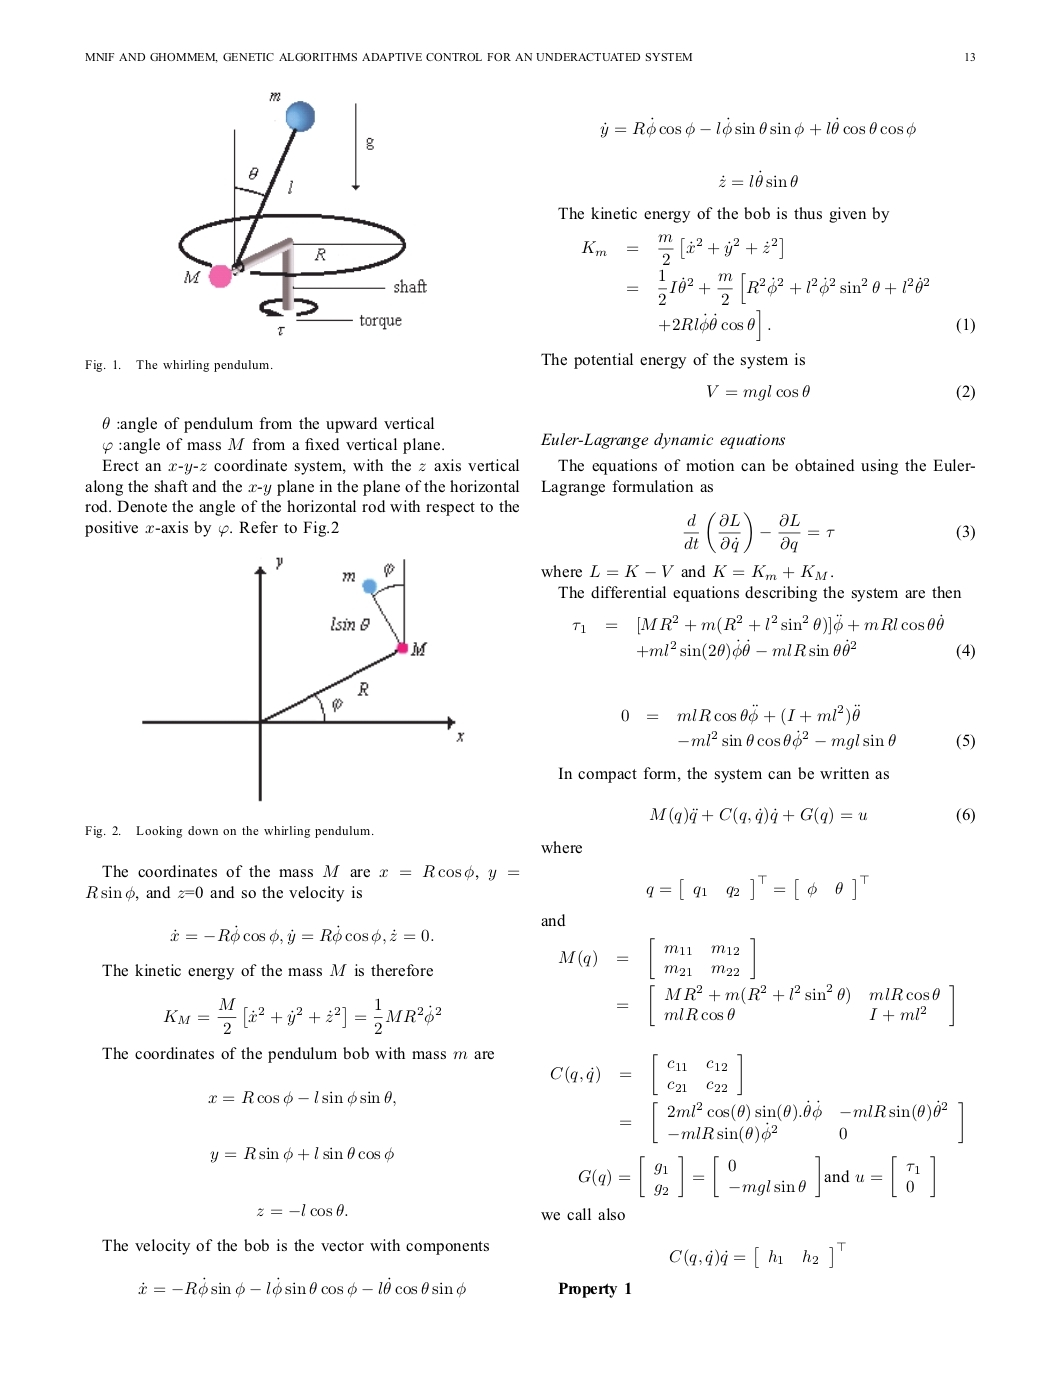figure: (142, 556, 464, 802), (178, 91, 426, 335)
formula: (620, 1099, 962, 1145), (578, 1155, 934, 1198), (617, 982, 953, 1028), (683, 512, 974, 553), (627, 267, 928, 305), (163, 997, 440, 1034), (659, 309, 974, 341), (549, 1052, 741, 1096), (558, 937, 755, 980), (572, 613, 943, 635), (637, 637, 974, 661), (138, 1276, 465, 1298), (581, 232, 782, 265), (600, 117, 915, 137), (678, 729, 974, 750), (649, 806, 974, 825), (646, 874, 868, 900), (171, 924, 434, 945), (621, 703, 859, 726), (707, 384, 974, 401), (669, 1245, 841, 1268), (210, 1145, 393, 1163), (208, 1090, 395, 1107), (718, 171, 797, 187), (256, 1202, 347, 1217)
